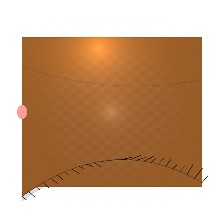hemorrhage_spot: (109, 69, 193, 136)
